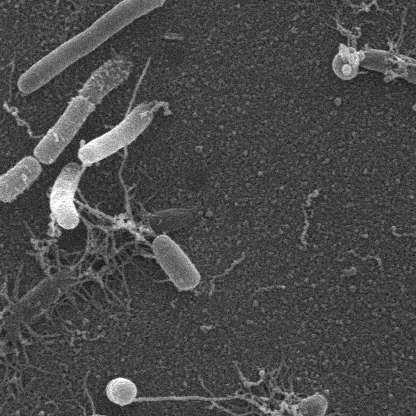cell2cell: (130, 392, 286, 409), (75, 206, 150, 240), (119, 151, 146, 237)
cell2surface: (2, 104, 49, 139), (127, 67, 153, 115)
regular: (16, 0, 163, 95), (36, 62, 130, 165), (78, 104, 153, 165), (347, 49, 416, 90), (150, 239, 203, 292), (49, 168, 77, 229), (0, 160, 38, 201), (105, 379, 138, 404)
